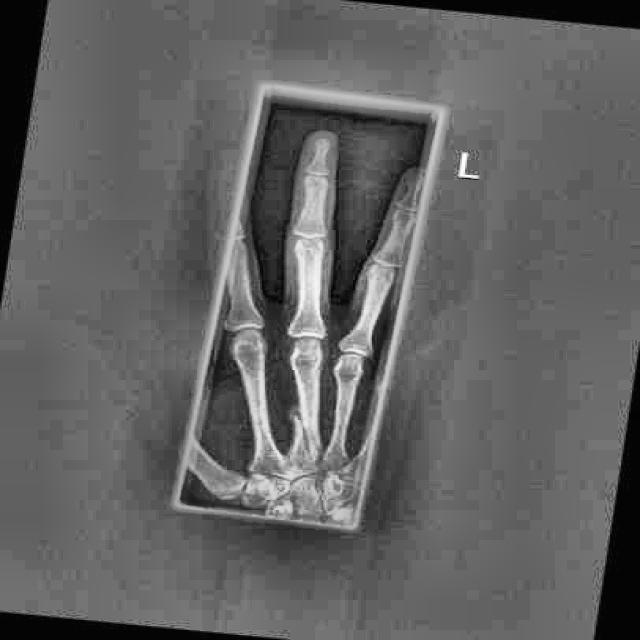fingers positive: (276, 394, 337, 477)
